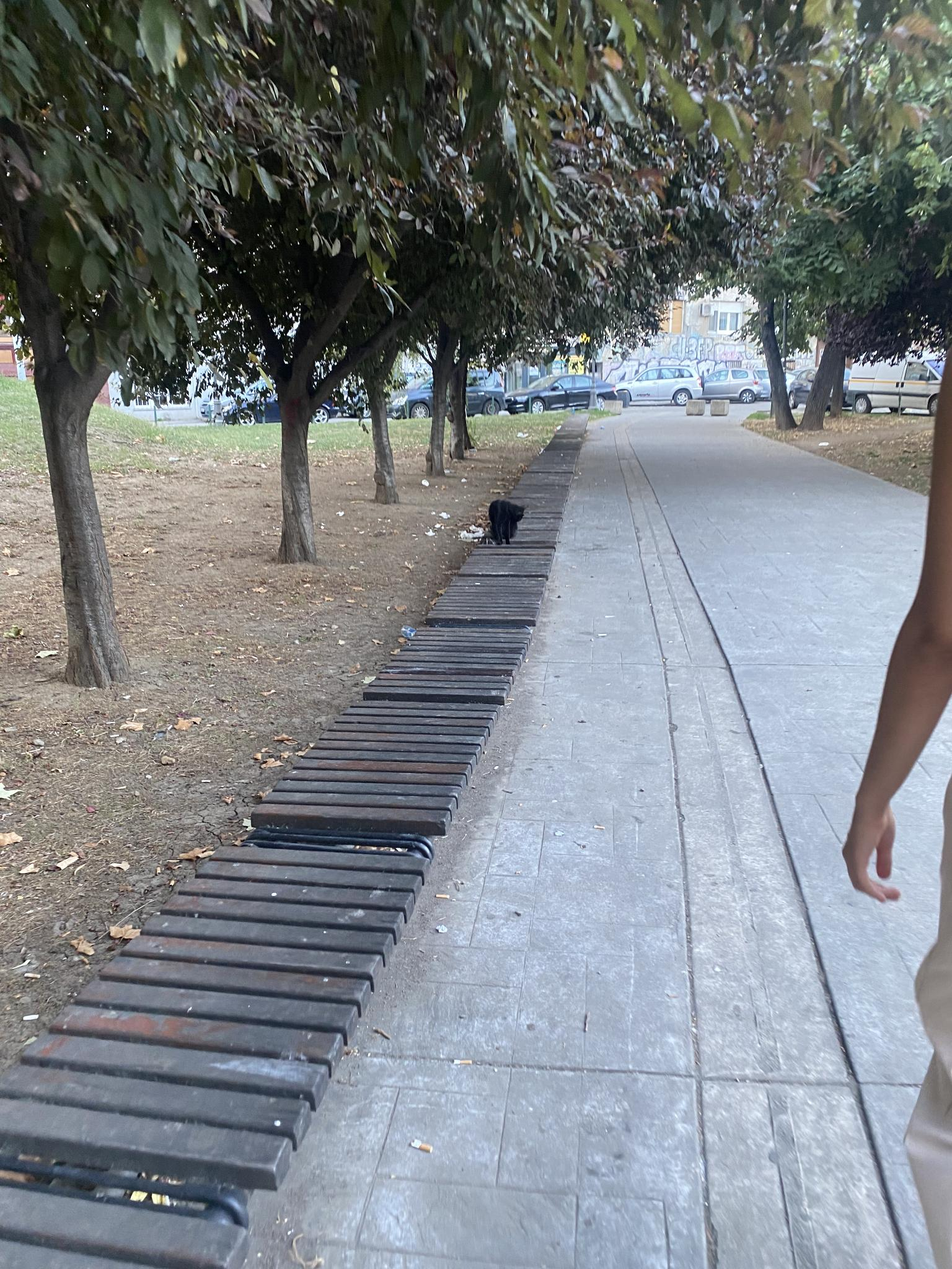macka: (489, 500, 526, 546)
